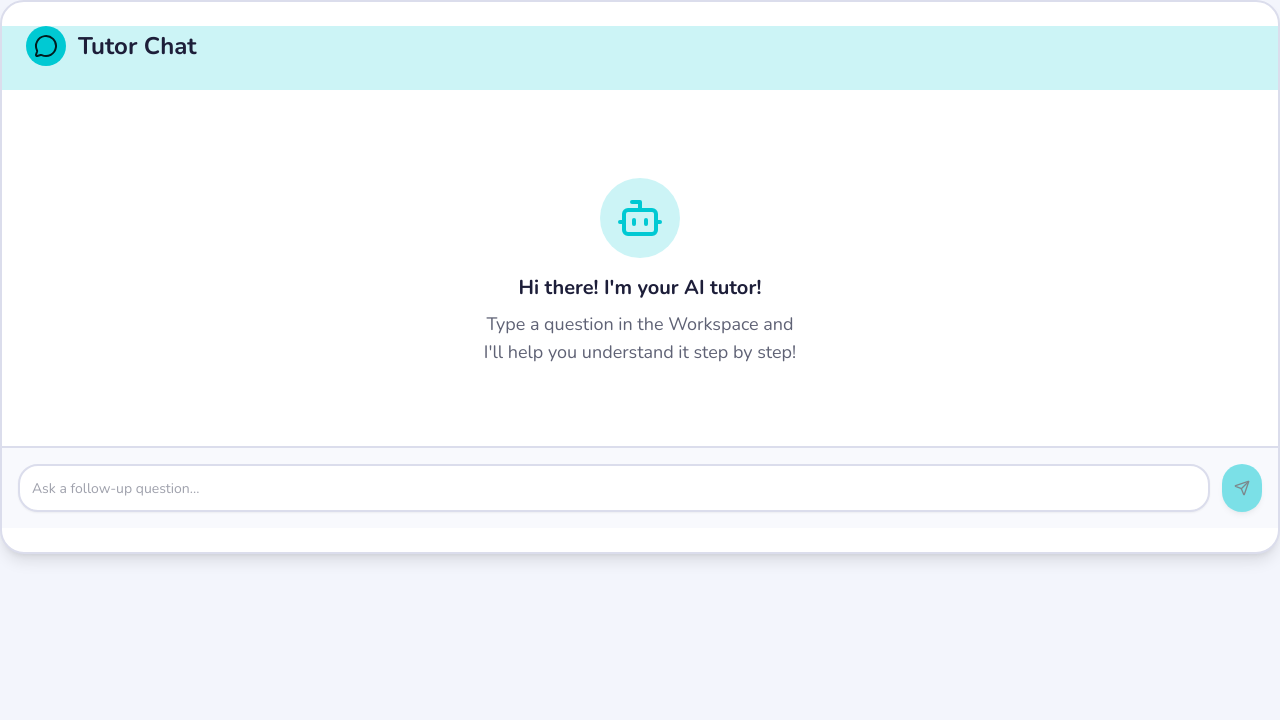
Scenario: TutorChat › input form › clears input after submission
This screenshot has width=1280, height=720.
Type "Hello" into the field with placeholder "Ask a follow-up question..." at (614, 488), box [18,464,1210,512]
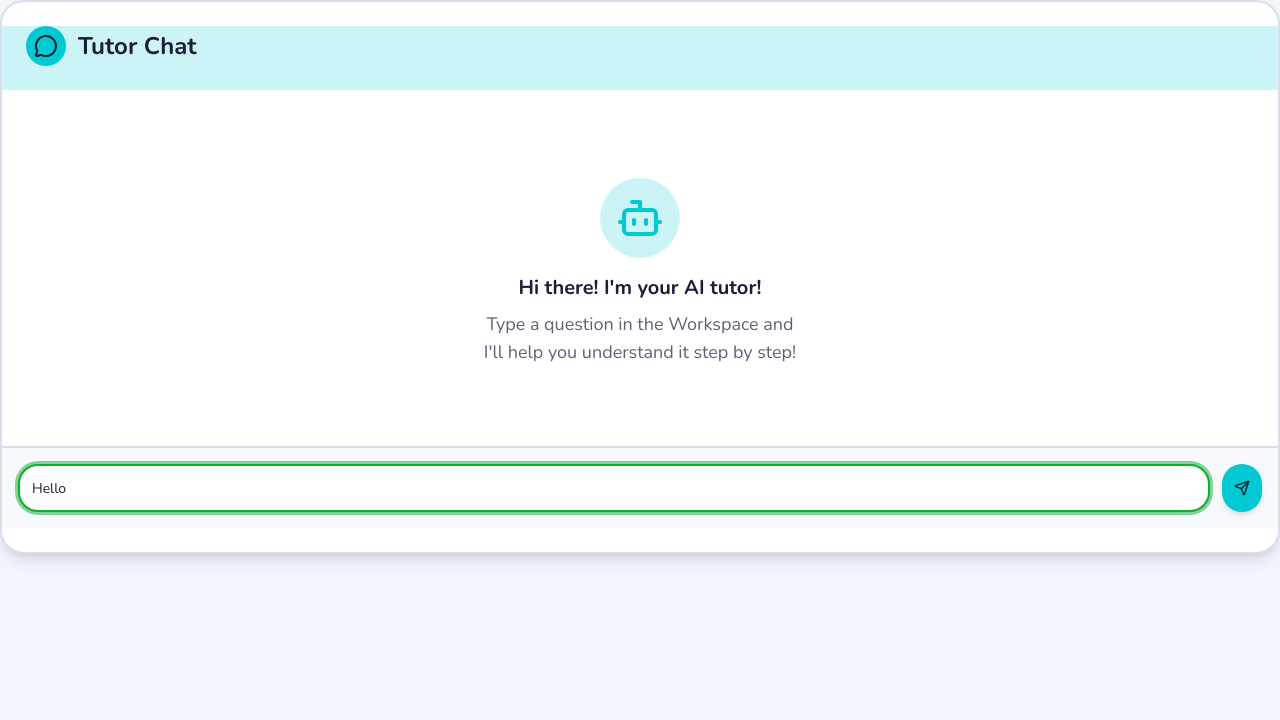
Click the button named "send message" at (1242, 488), box [1222,464,1262,512]
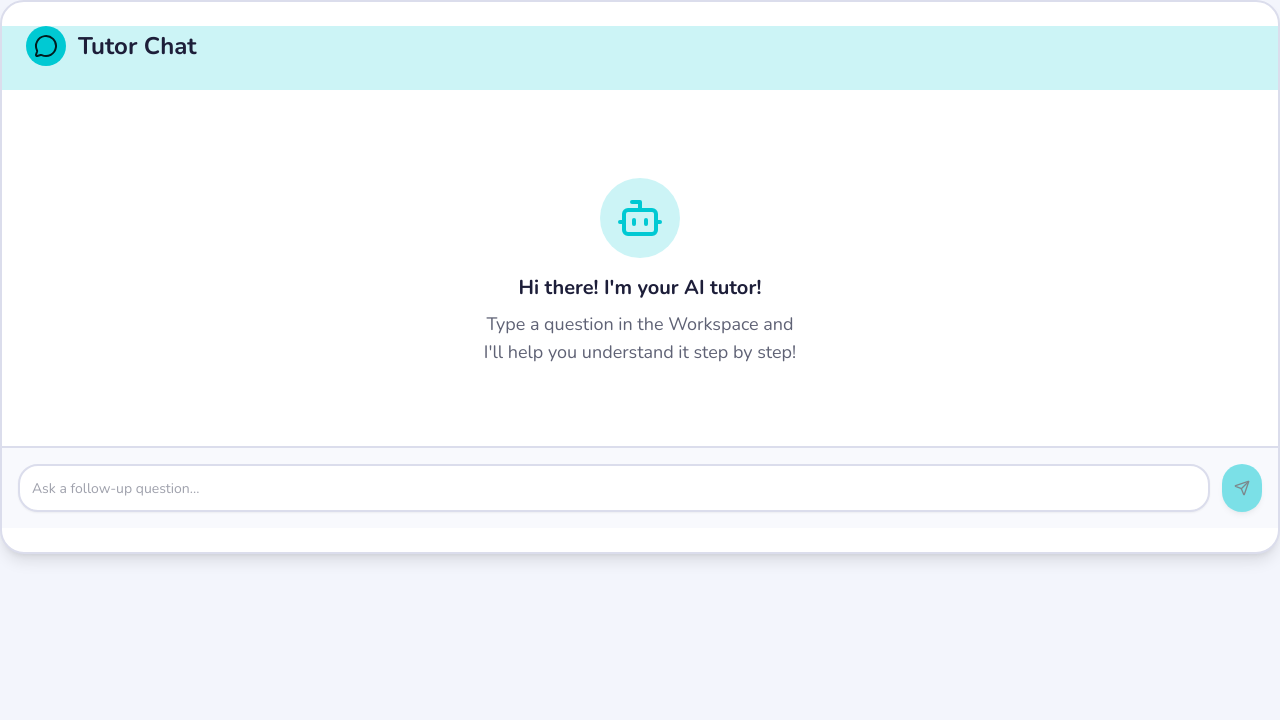
expect the field with placeholder "Ask a follow-up question..." is empty: met, box [18,464,1210,512]
